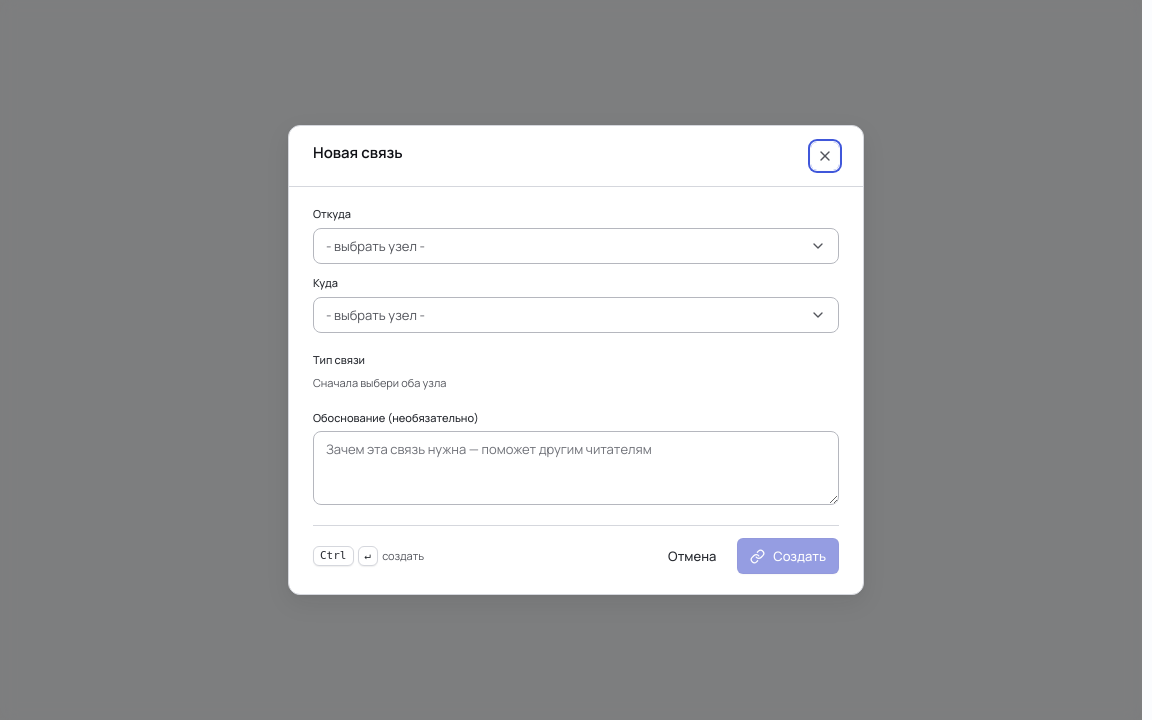
AddEdgeModal › "Куда" исключает выбранный в "Откуда" узел из своих опций
Click the button named "Откуда": [375, 246] box [313,228,839,264]
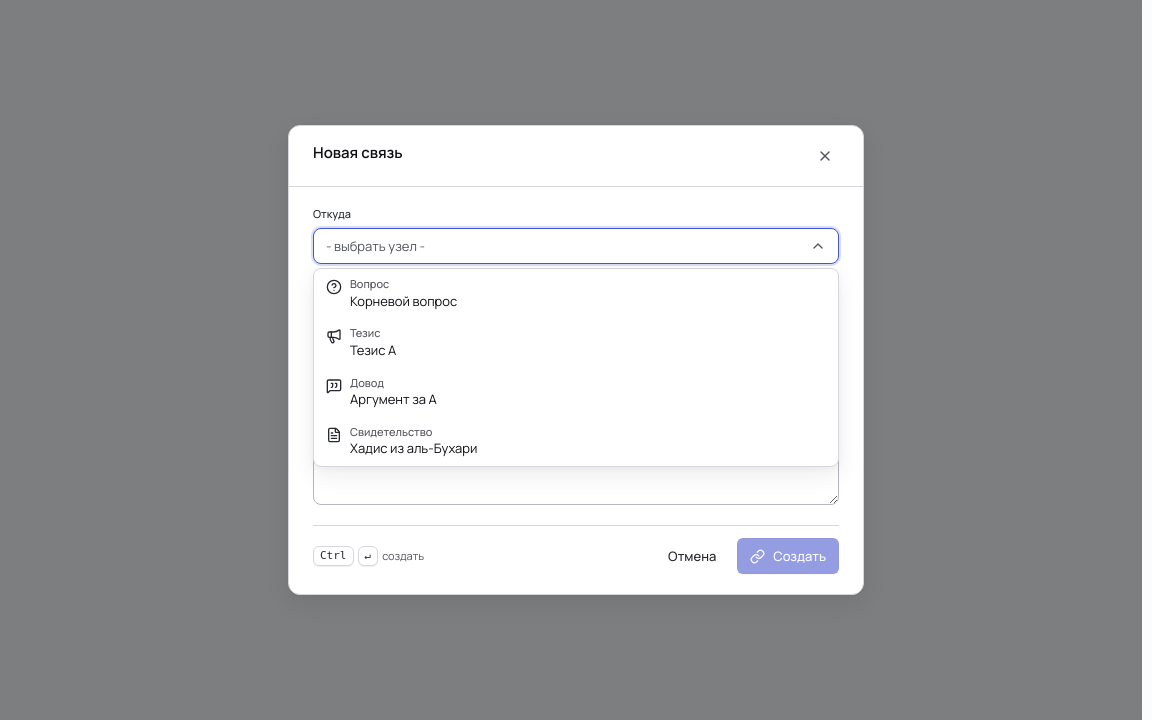
Click the text "Корневой вопрос": [404, 301] box [350,292,457,310]
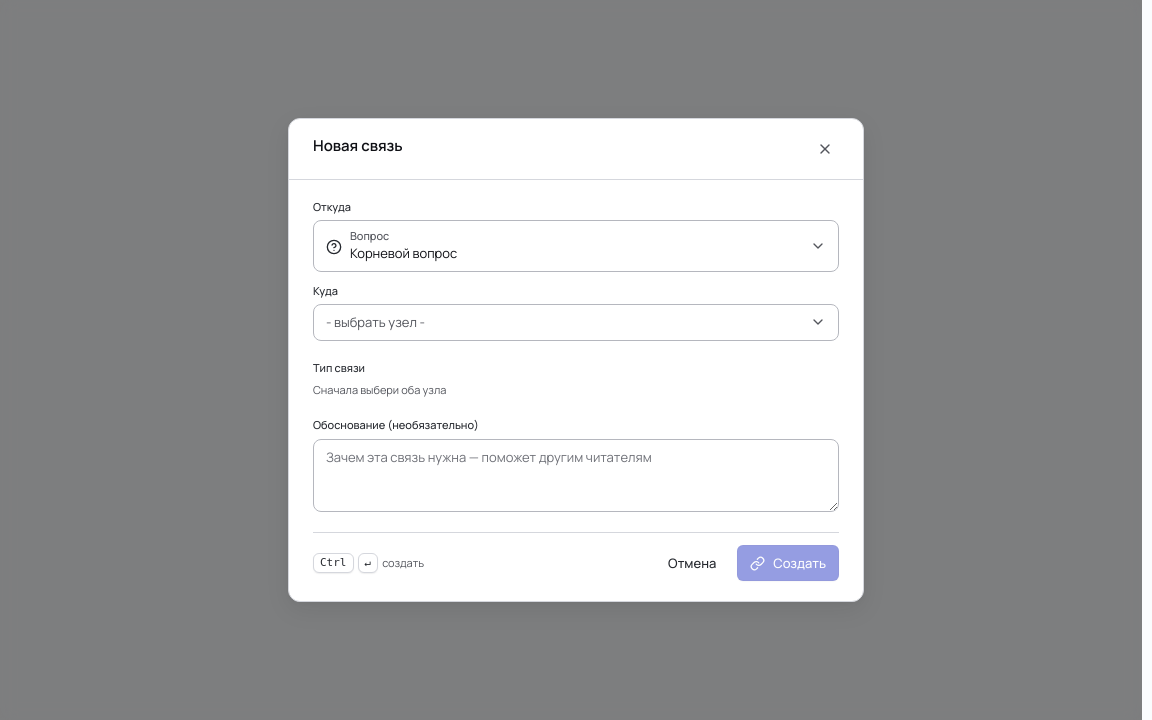
Click the button named "Куда": [375, 322] box [313,304,839,341]
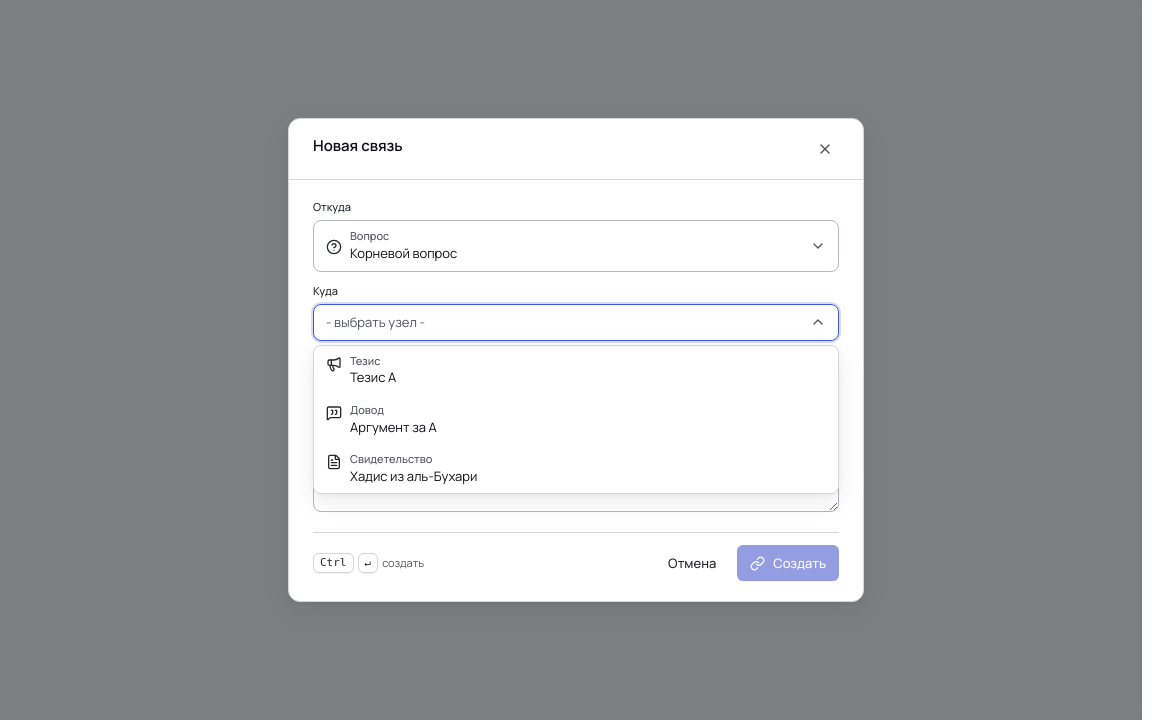
Expected: the text "Тезис А" is shown, [350,368,396,386]
Expected: the text "Аргумент за А" is shown, [350,418,437,436]
Expected: the text "Хадис из аль-Бухари" is shown, [350,467,477,485]
